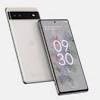Smartphone: (36, 17, 89, 98), (4, 6, 53, 83)
